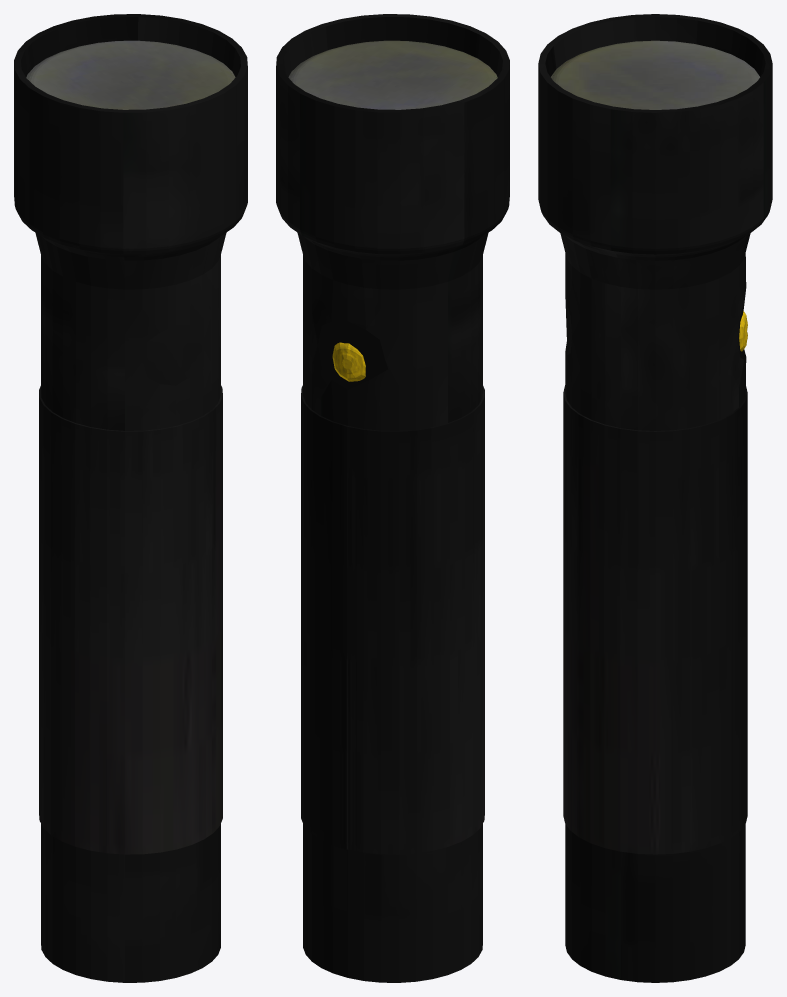
The model's file is Lantern.fbx.
3 views of the same model, side by side, from view 1: azimuth 30°, elevation 25°; view 2: azimuth 150°, elevation 25°; view 3: azimuth 270°, elevation 25° (orthographic).
Parts seen in each view (by area): view 1: Lantern; view 2: Lantern; view 3: Lantern.
Boxes of the visible parts, x1,y1,x2,y2 form: Lantern: [14, 14, 247, 982]; Lantern: [276, 14, 509, 982]; Lantern: [538, 14, 772, 982].
Bounding box in the file's own units: 7.08 × 29.41 × 7.08.
Materials: 3 (3 with a texture image).
